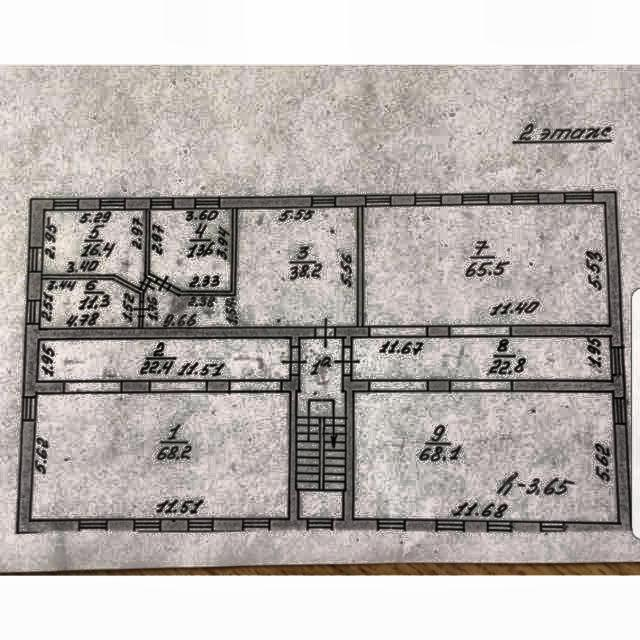room: (353, 392, 619, 524), (28, 391, 292, 521), (363, 204, 610, 326), (142, 206, 358, 329), (351, 337, 613, 382), (39, 340, 289, 379), (296, 338, 346, 519), (42, 209, 145, 288), (149, 209, 232, 291), (39, 279, 140, 329)
